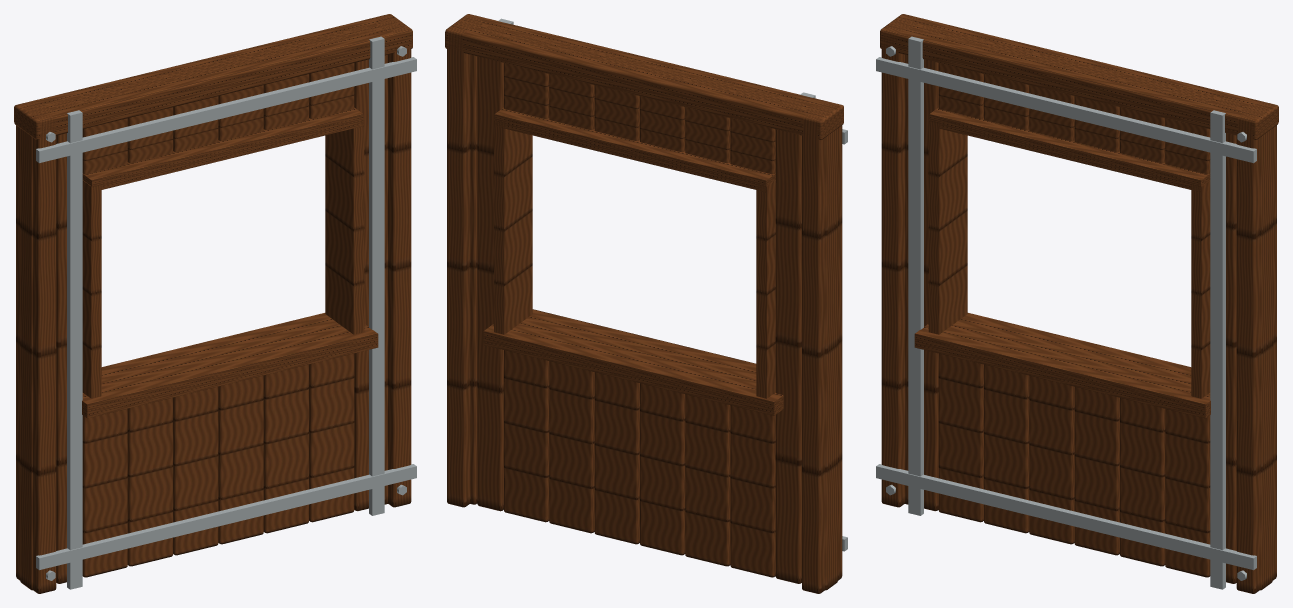
File: modular-survival-base-builder-wall-counter-opening-rei-75a23c16__24295.glb
The picture shows the model from 3 angles, left to right: view 1: azimuth 30°, elevation 25°; view 2: azimuth 150°, elevation 25°; view 3: azimuth 330°, elevation 25°; orthographic projection.
Parts seen in each view (by area): view 1: wall-counter-opening-reinforced; view 2: wall-counter-opening-reinforced; view 3: wall-counter-opening-reinforced.
Part boxes in pixels (x1,y1,x2,y2): wall-counter-opening-reinforced: (14,14,416,593); wall-counter-opening-reinforced: (445,14,847,593); wall-counter-opening-reinforced: (876,14,1278,593).
Size of the model in its own units: 2 by 2.4 by 0.3199.
Materials: 2 (1 with a texture image).
